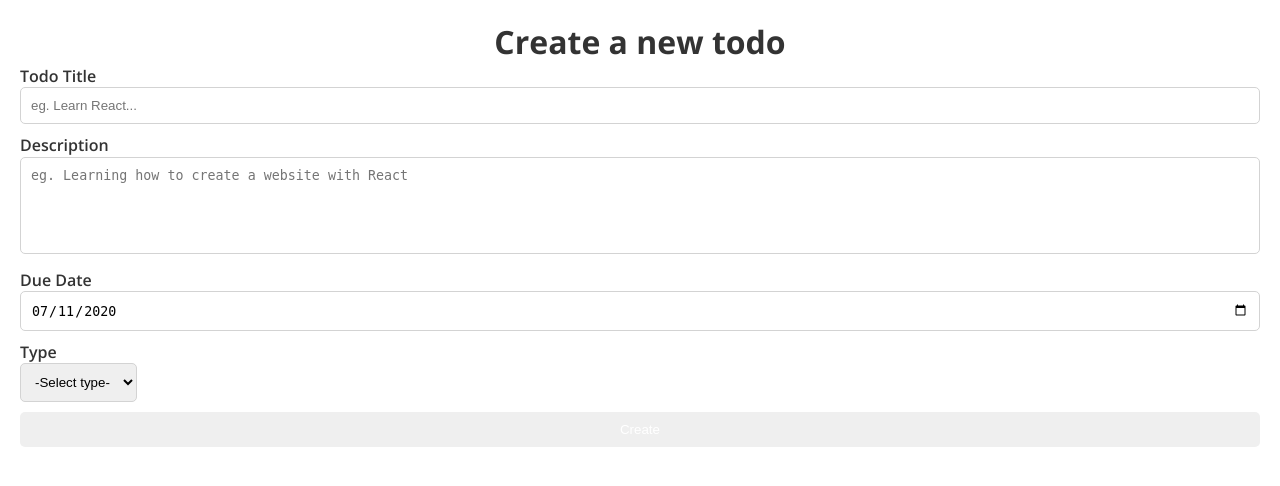
Test case: Submit form › With no value › display error message when there is no value in input 'dueDate'
Type "Create a website" into the field with placeholder "eg. Learn React..." at (640, 106), box [20,87,1260,124]
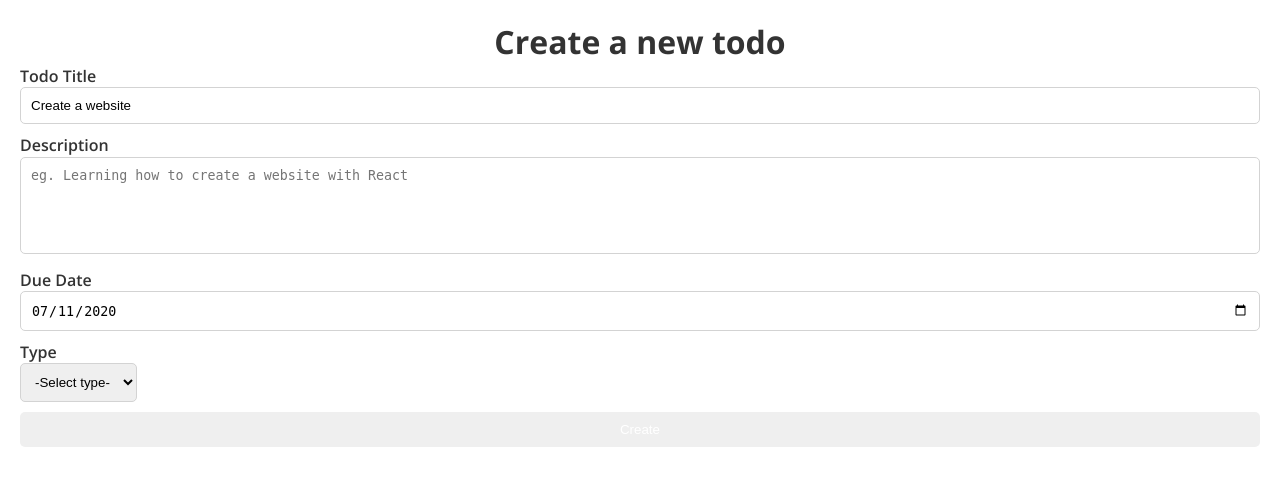
Type "Create a website" into the text box with placeholder "eg. Learning how to create a website with React" at (640, 205), box [20,157,1260,254]
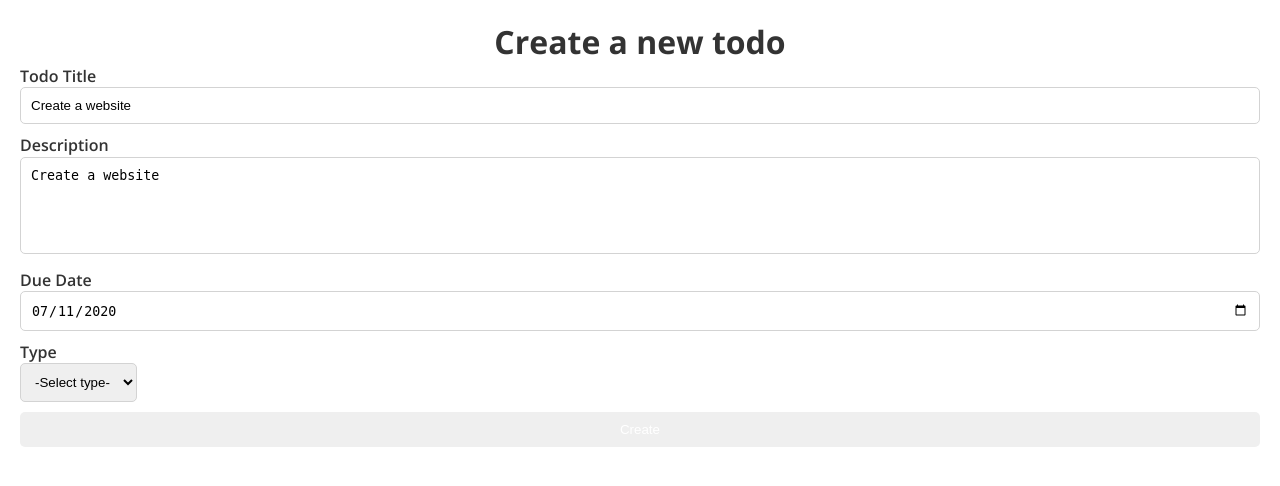
Clear the date field labelled "Due Date" at (640, 311), box [20,291,1260,331]
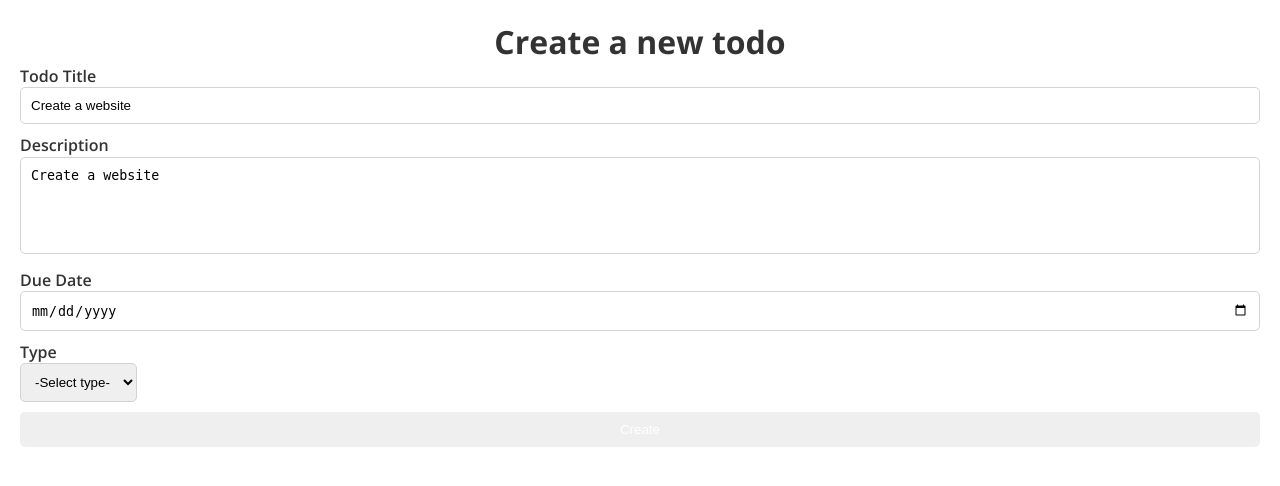
Select "Important" in the dropdown labelled "Type" at (78, 383), box [20,363,137,402]
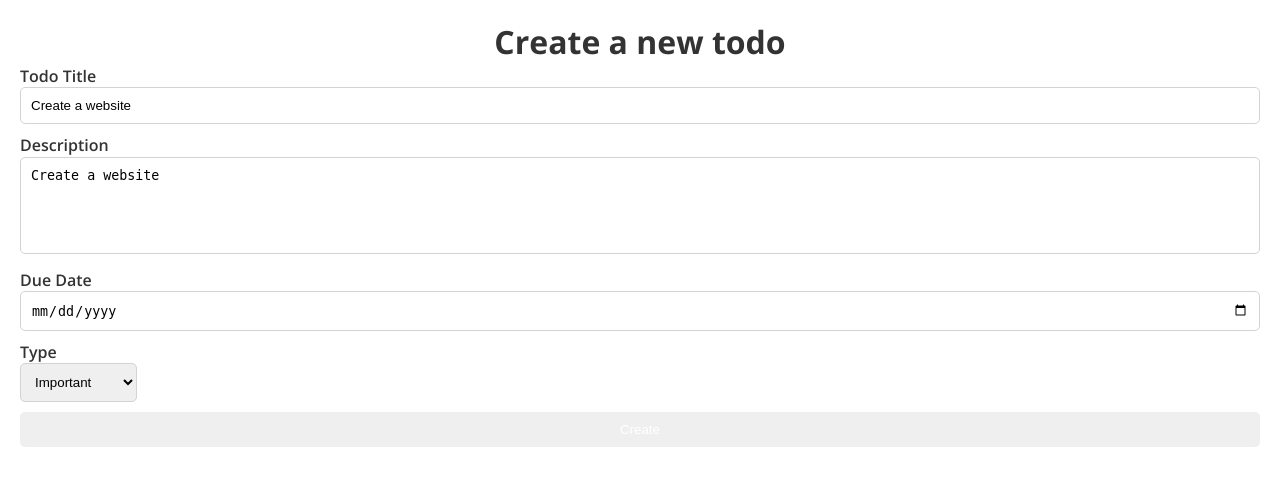
Submit the form with test id "form"
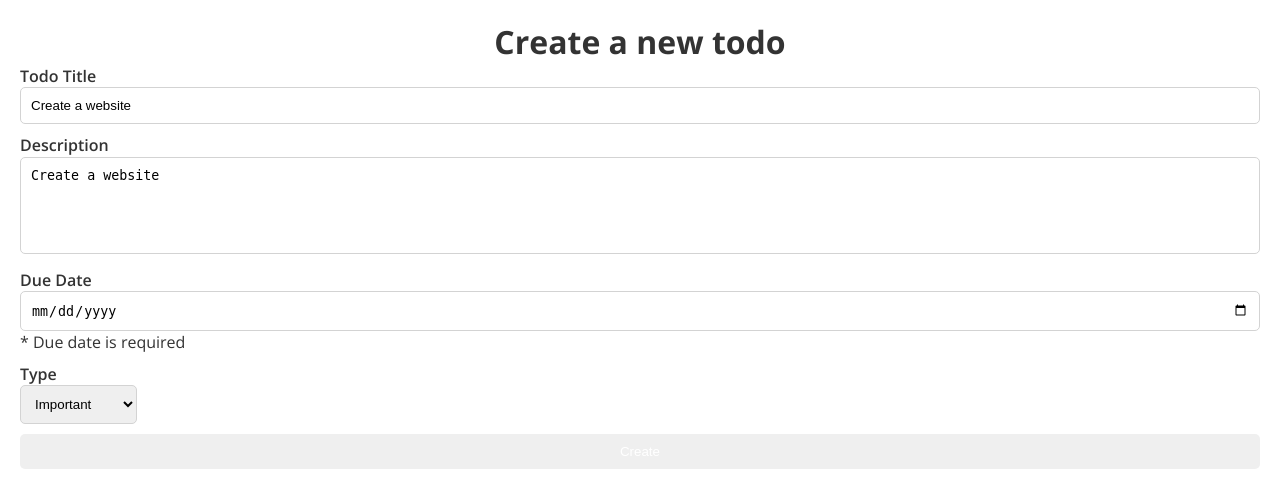
Check: the text "* Due date is required" is shown, box [20,331,185,353]
